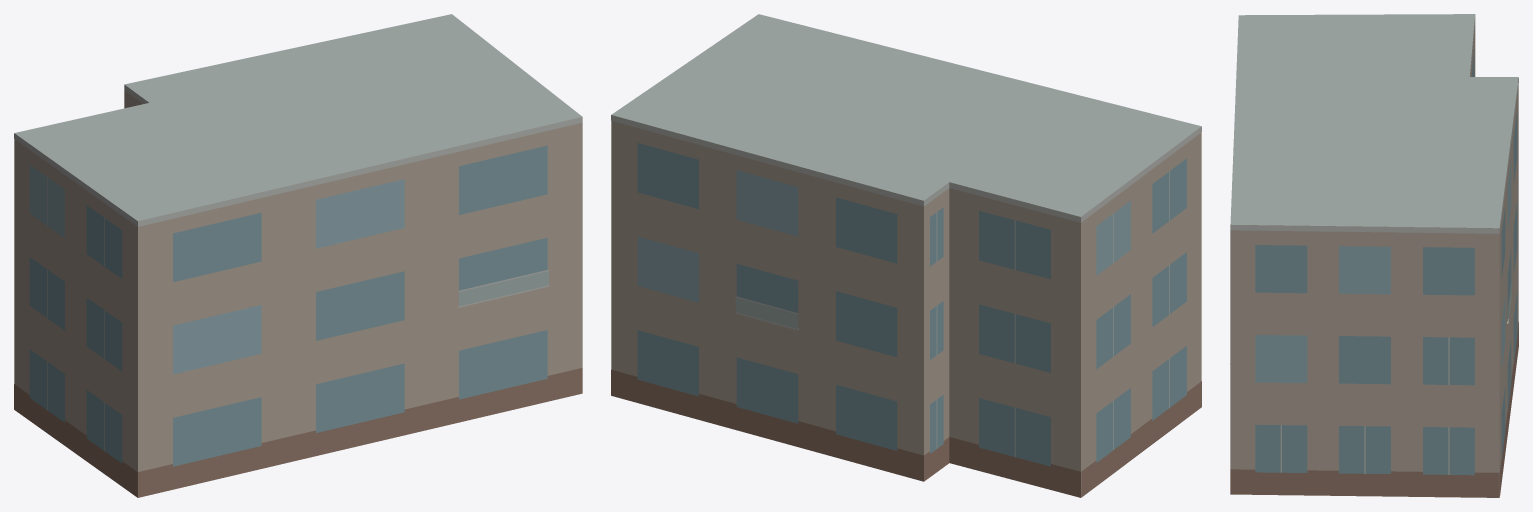
File: survey-upis-32489434.glb
The picture shows the model from 3 angles, left to right: view 1: azimuth 30°, elevation 25°; view 2: azimuth 150°, elevation 25°; view 3: azimuth 270°, elevation 25°; orthographic projection. The views are drawn at different scales.
Parts seen in each view (by area): view 1: survey-upis-32489434.tmp; view 2: survey-upis-32489434.tmp; view 3: survey-upis-32489434.tmp.
Part boxes in pixels (x1,y1,x2,y2): survey-upis-32489434.tmp: (14, 14, 582, 497); survey-upis-32489434.tmp: (611, 14, 1201, 497); survey-upis-32489434.tmp: (1230, 14, 1518, 497).
Bounding box in the file's own units: 20.11 × 11.8 × 11.45.
